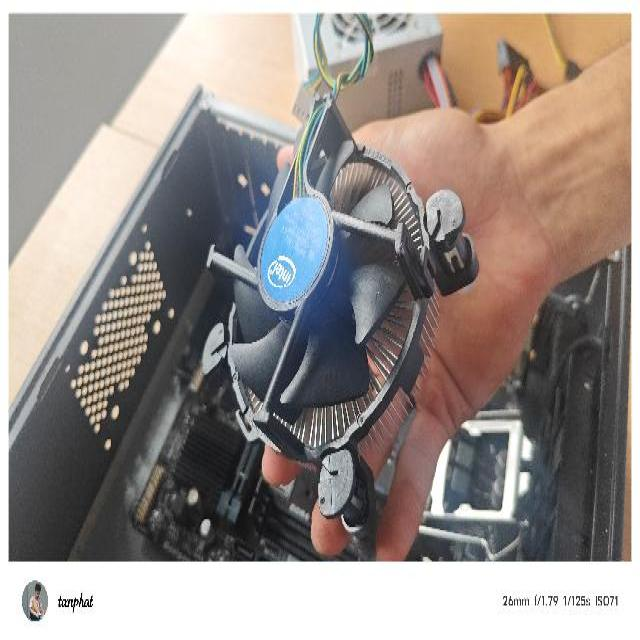CPU_Fan: (202, 86, 482, 536)
